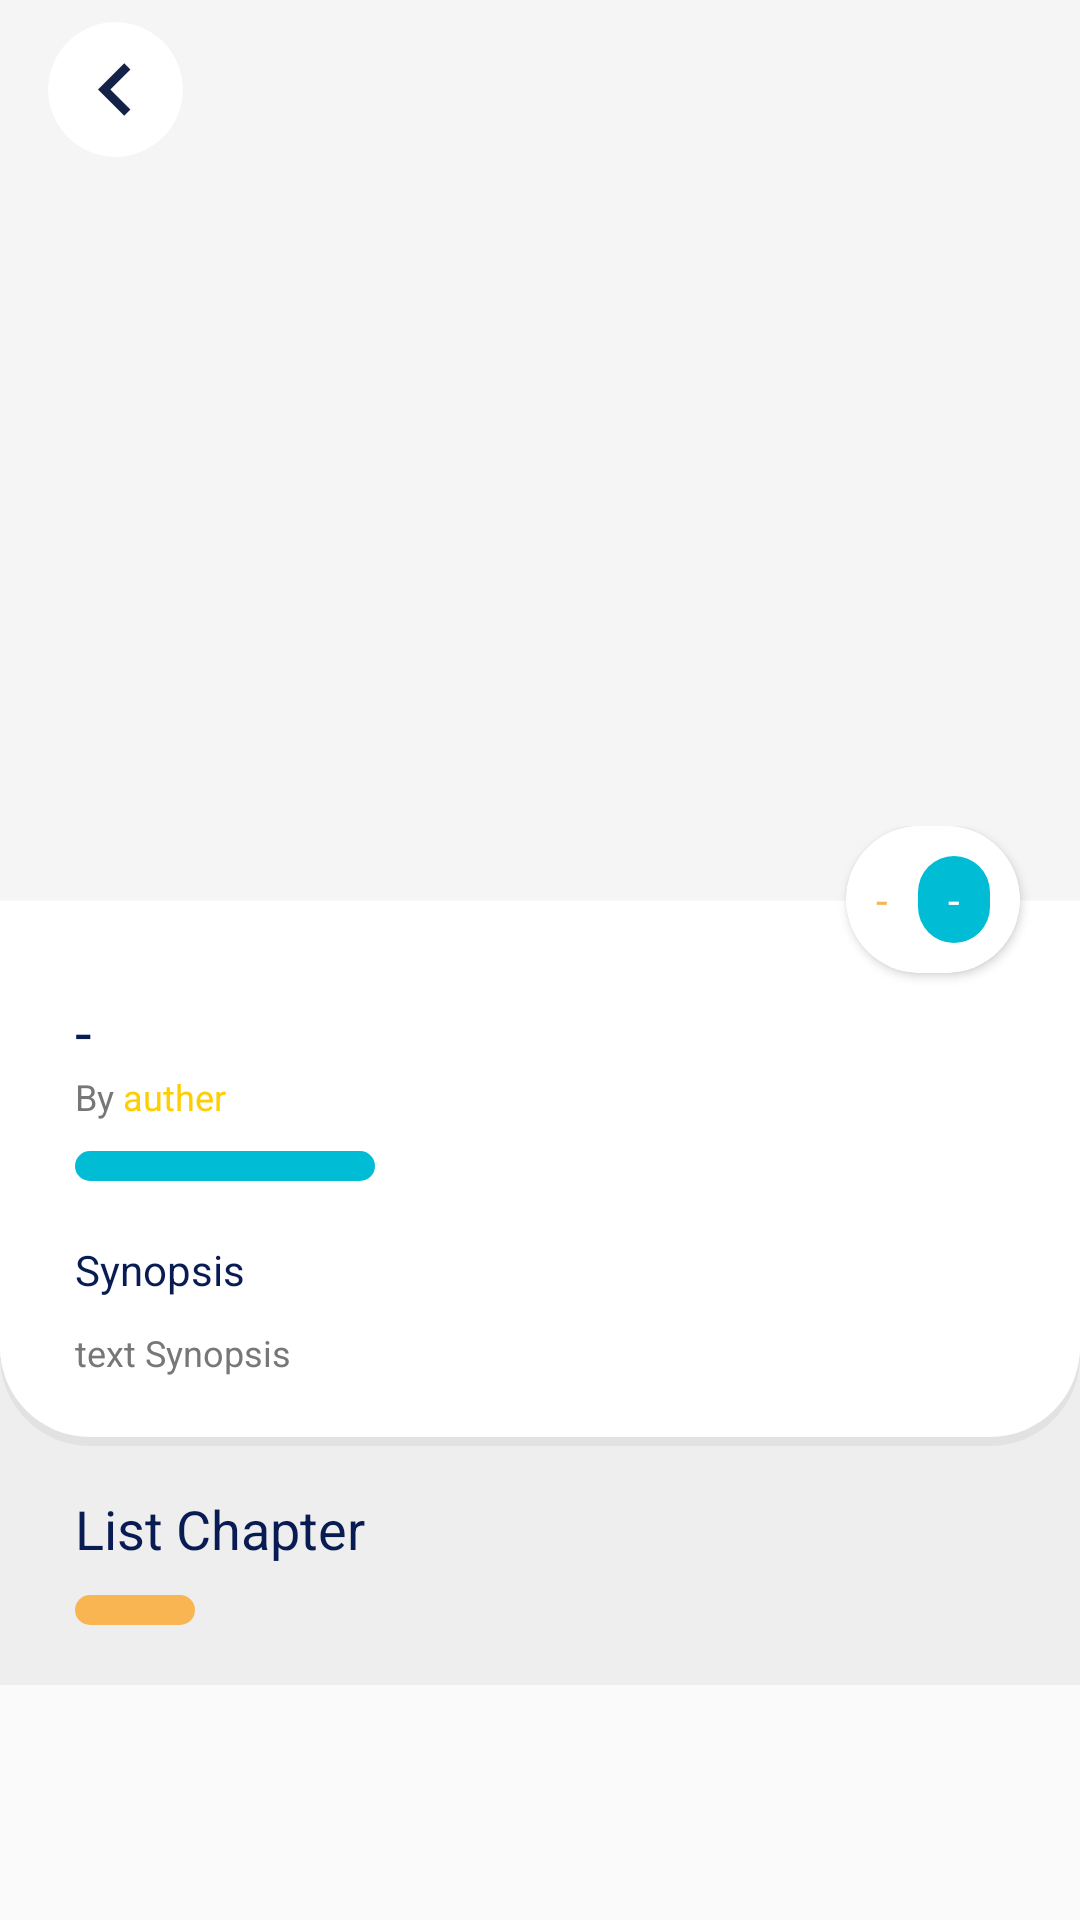

Icons on this 1080*1920 Android screen, each with its box as region(x1, y1, x2, y2):
back: region(98, 63, 131, 116)
